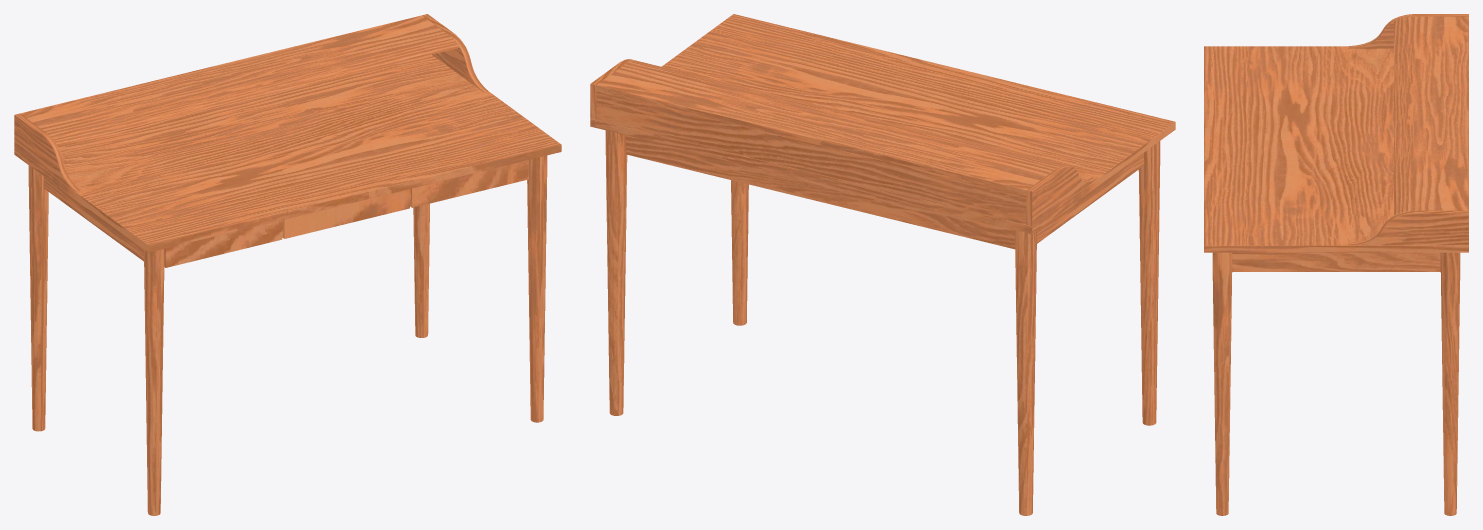
The model's file is desk_wood.glb.
The picture shows the model from 3 angles, left to right: view 1: azimuth 30°, elevation 25°; view 2: azimuth 150°, elevation 25°; view 3: azimuth 270°, elevation 25°; orthographic projection. The views are drawn at different scales.
Parts seen in each view (by area): view 1: desk; view 2: desk; view 3: desk.
Boxes of the visible parts, x1,y1,x2,y2 form: desk: [14, 14, 561, 515]; desk: [590, 14, 1175, 515]; desk: [1204, 14, 1468, 515].
Size of the model in its own units: 1.01 by 0.7279 by 0.5679.
Materials: 1 (1 with a texture image).
